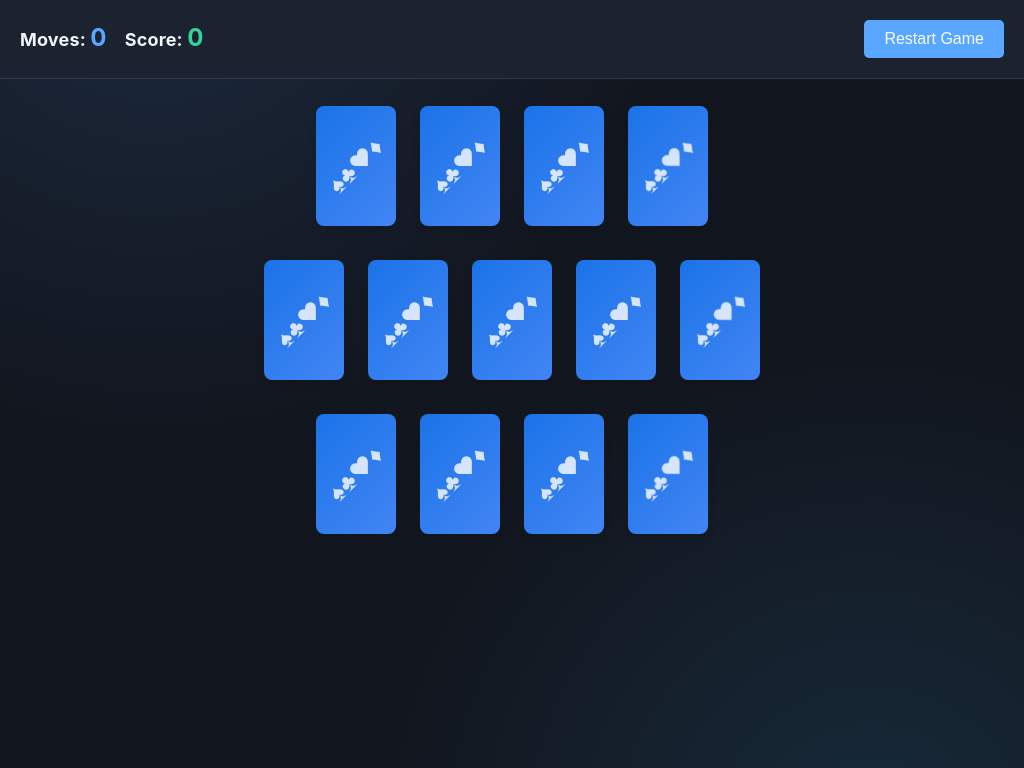
Scenario: App › yeniden başlat butonuna tıklandığında skor ve hamleyi sıfırlar
This screenshot has width=1024, height=768.
What coordinates should you click on to do the following:
click the 1st element with class "hidden"
I would click on:
 (356, 166)
Its box is left=316, top=106, right=396, bottom=226.
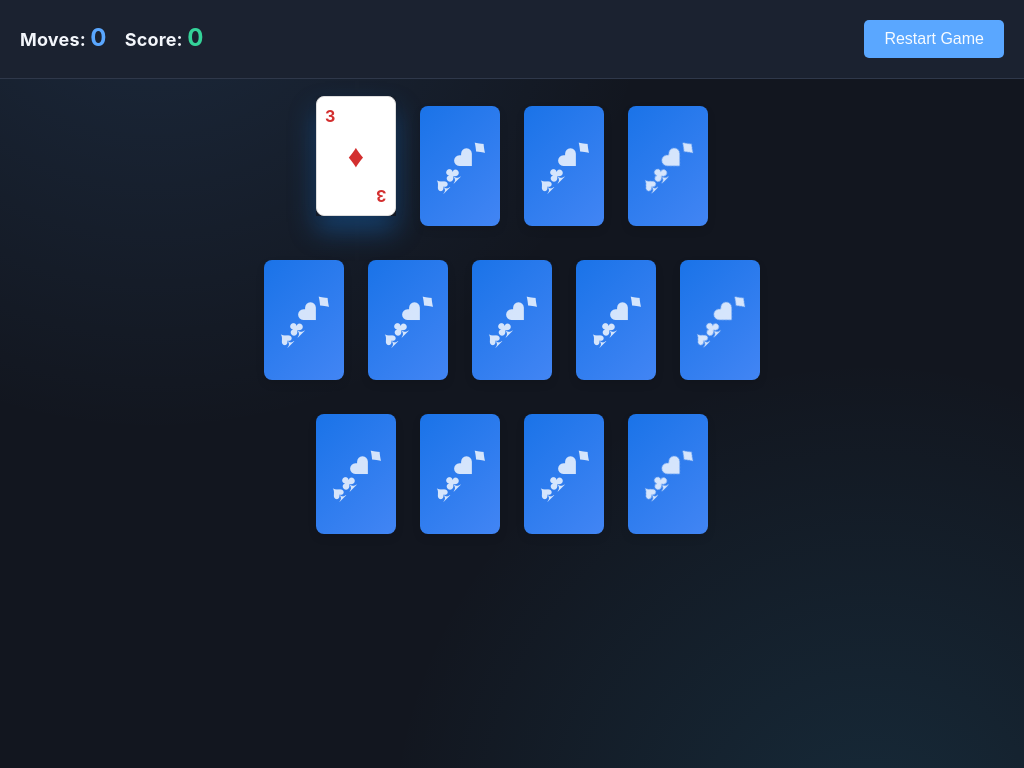
What coordinates should you click on to do the following:
click the 1st element with class "hidden"
I would click on:
 (460, 166)
Its box is left=420, top=106, right=500, bottom=226.
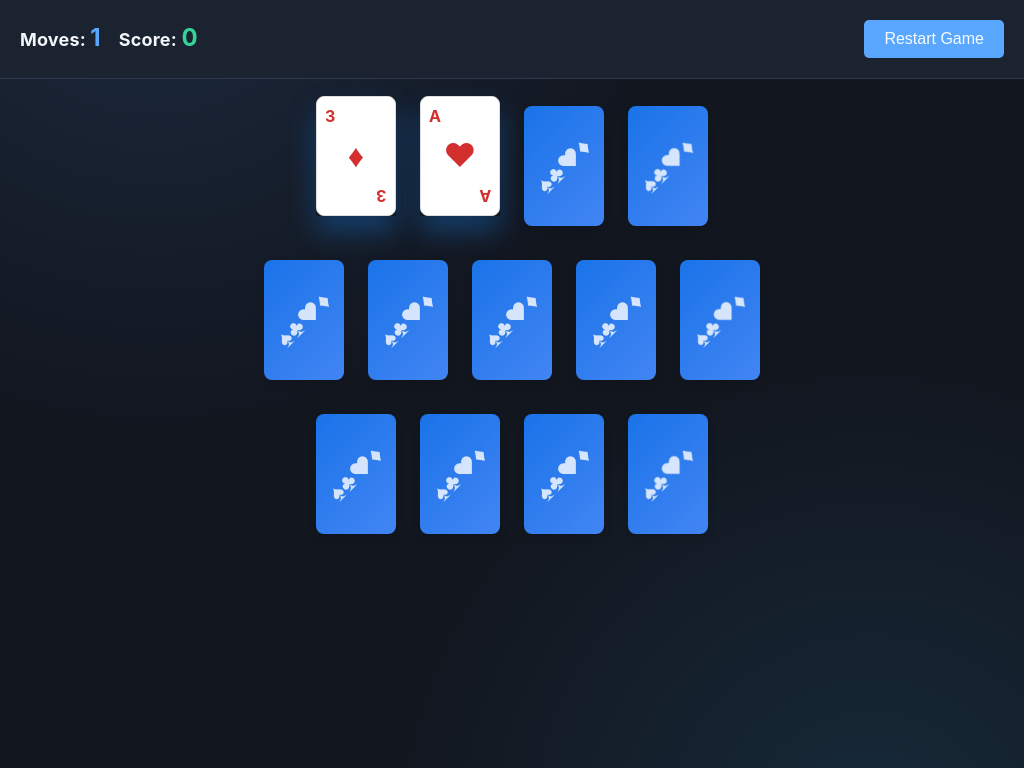
Expected: the text with class "move-count" reads "1", left=90, top=23, right=101, bottom=52
What coordinates should you click on to do the following:
click the button "Restart Game"
I would click on:
 (934, 39)
Its box is left=864, top=20, right=1004, bottom=58.
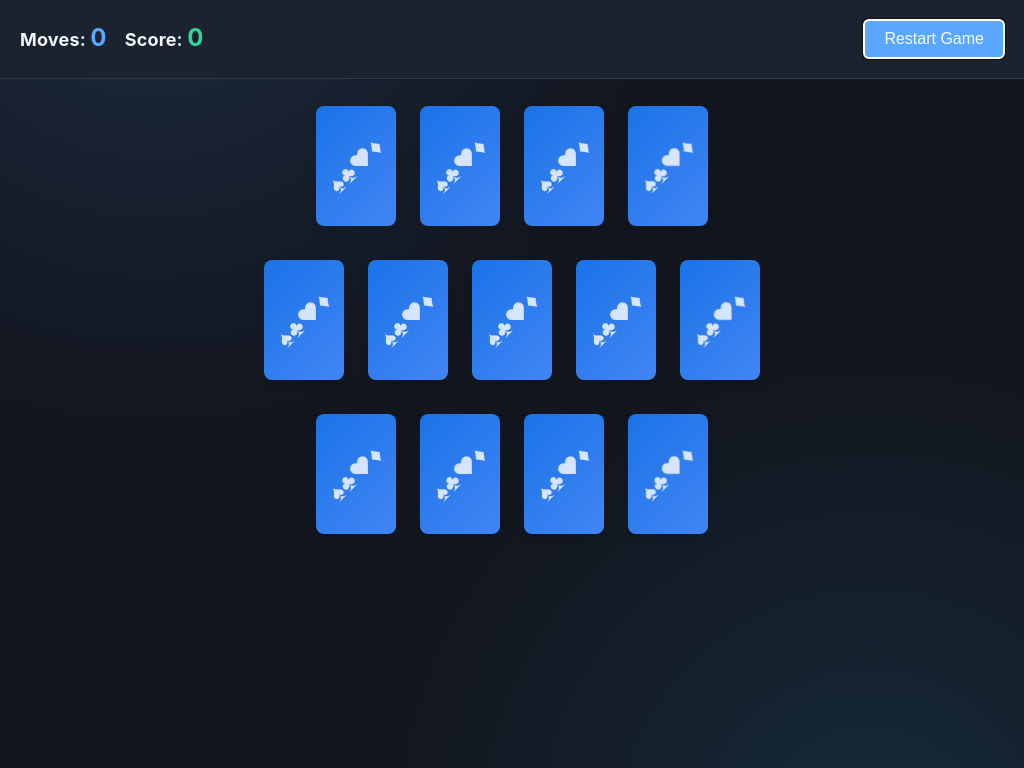
Expected: the text "0" next to "Score:" is shown, left=187, top=23, right=204, bottom=52
Expected: the text with class "move-count" reads "0", left=90, top=23, right=107, bottom=52
